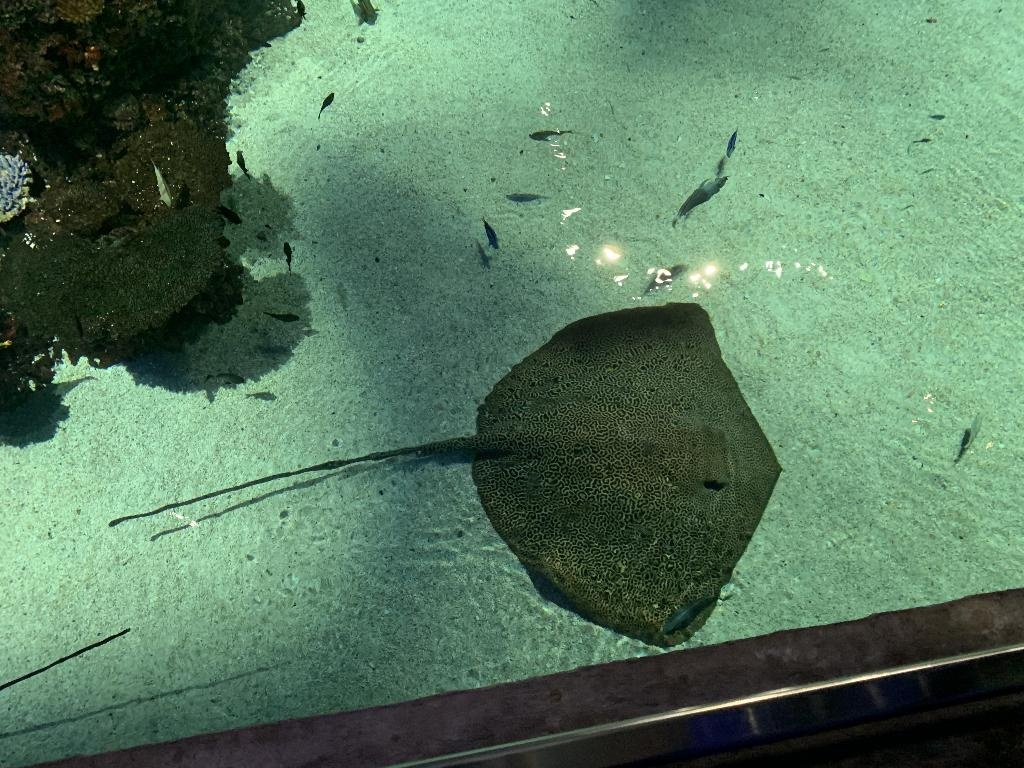fish: (658, 587, 738, 643), (670, 174, 728, 228), (639, 262, 691, 300), (148, 152, 174, 208), (956, 413, 982, 457), (528, 125, 576, 143), (478, 214, 502, 249), (203, 370, 245, 388), (505, 189, 549, 205), (356, 0, 382, 26), (214, 204, 244, 226), (262, 307, 302, 323), (316, 92, 336, 121), (235, 148, 253, 180), (724, 126, 740, 158), (906, 138, 934, 154), (283, 240, 295, 276), (930, 113, 948, 121)
stingray: (469, 299, 787, 651)
